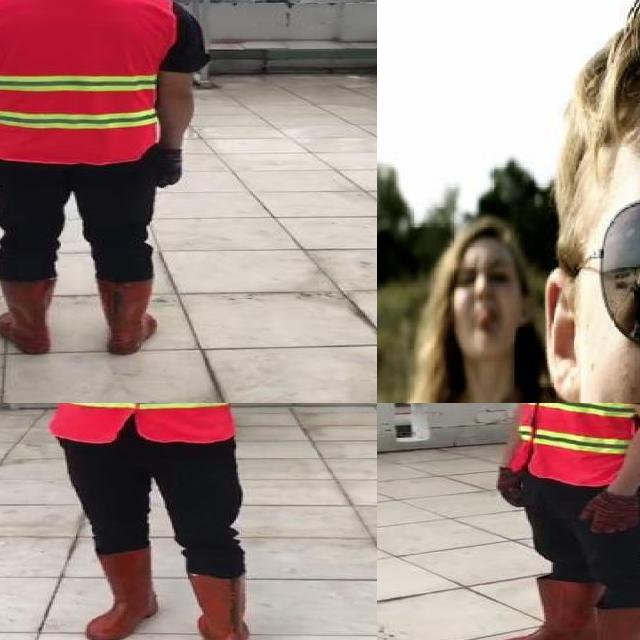No_Ear-Protection: (532, 265, 598, 403)
boots: (84, 549, 161, 640), (492, 580, 602, 640), (187, 573, 270, 640), (96, 276, 158, 356), (0, 276, 53, 355), (554, 606, 640, 640)
face_nomask: (445, 258, 518, 348)
glasses: (570, 199, 640, 383)
hand_glove: (576, 491, 640, 535), (496, 467, 524, 509), (158, 145, 184, 184)
head_nohelmet: (555, 0, 640, 195), (434, 213, 511, 264)
person: (0, 0, 208, 360), (4, 403, 306, 640), (473, 403, 640, 640), (394, 209, 580, 403)
vest: (0, 0, 172, 165), (510, 403, 640, 486), (41, 403, 235, 443)
